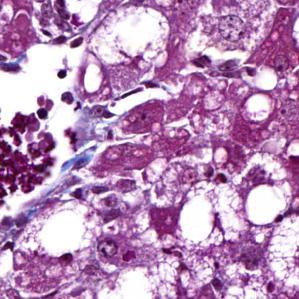ballooning: (84, 6, 176, 73), (174, 177, 248, 250)
